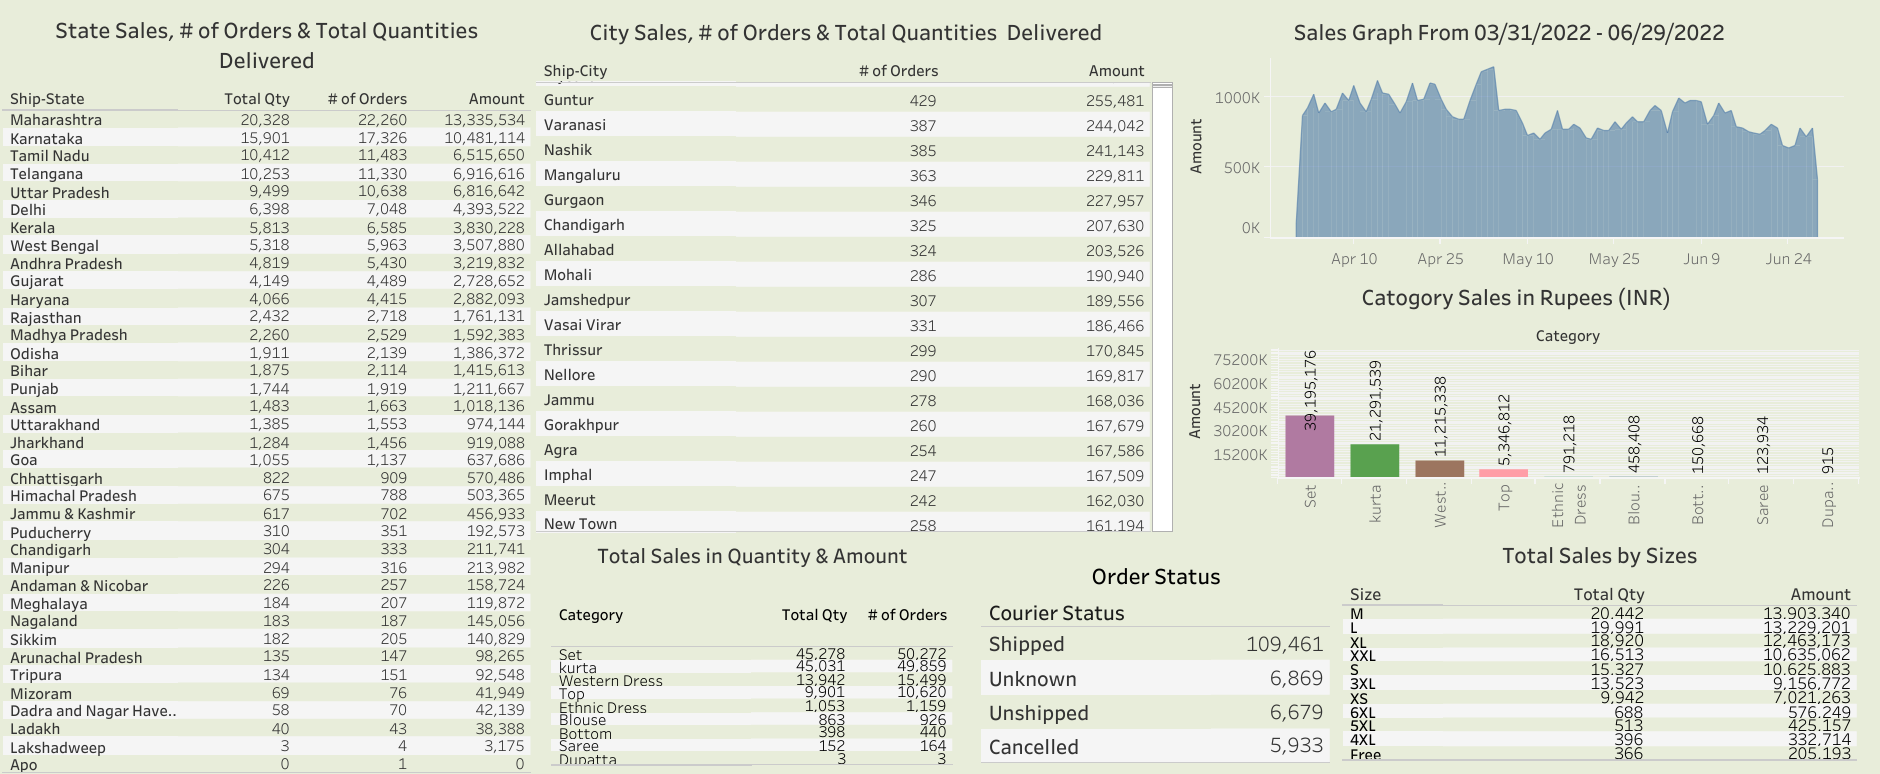

Layout of this report page (visuals, bound fields, positions):
{"tool":"tableau","page":{"name":"Dashboard 1","canvas":[1000,1000],"units":"permille","ordinal":0},"visuals":[{"type":"worksheet","title":"state_sales","mark":"Automatic","rows":["ship-state"],"box":[1.3,8.2,281.2,989.4]},{"type":"worksheet","title":"city_sales","mark":"Automatic","rows":["ship-city"],"box":[285,10.6,339,676.9]},{"type":"worksheet","title":"sales_graph","mark":"Area","rows":["Amount"],"cols":["Date"],"box":[624.6,11.8,355.3,343.1]},{"type":"worksheet","title":"category_sales","mark":"Automatic","rows":["Amount"],"cols":["Category"],"box":[624,353.7,364.1,330.2]},{"type":"worksheet","title":"size_sale","mark":"Automatic","rows":["Size"],"box":[713.8,686.2,273.7,296.1]},{"type":"worksheet","title":"total_quantity","mark":"Automatic","rows":["Category"],"box":[293.2,687.4,214.1,300.8]},{"type":"worksheet","title":"status_order","mark":"Automatic","rows":["Courier Status"],"box":[521.7,713.3,185.8,271.4]}]}

Visuals, with their boxes on the dashboard's canvas, which has no fixed pixel size, in thousandths of its width and height (x1, y1, x2, y2). These are canvas units, not pixel positions in the 1880x774 screenshot, which may show the page scaled, cropped or inside an application window:
"state_sales" worksheet: region(1, 8, 282, 998)
"city_sales" worksheet: region(285, 11, 624, 688)
"sales_graph" worksheet (Area marks): region(625, 12, 980, 355)
"category_sales" worksheet: region(624, 354, 988, 684)
"size_sale" worksheet: region(714, 686, 988, 982)
"total_quantity" worksheet: region(293, 687, 507, 988)
"status_order" worksheet: region(522, 713, 708, 985)
